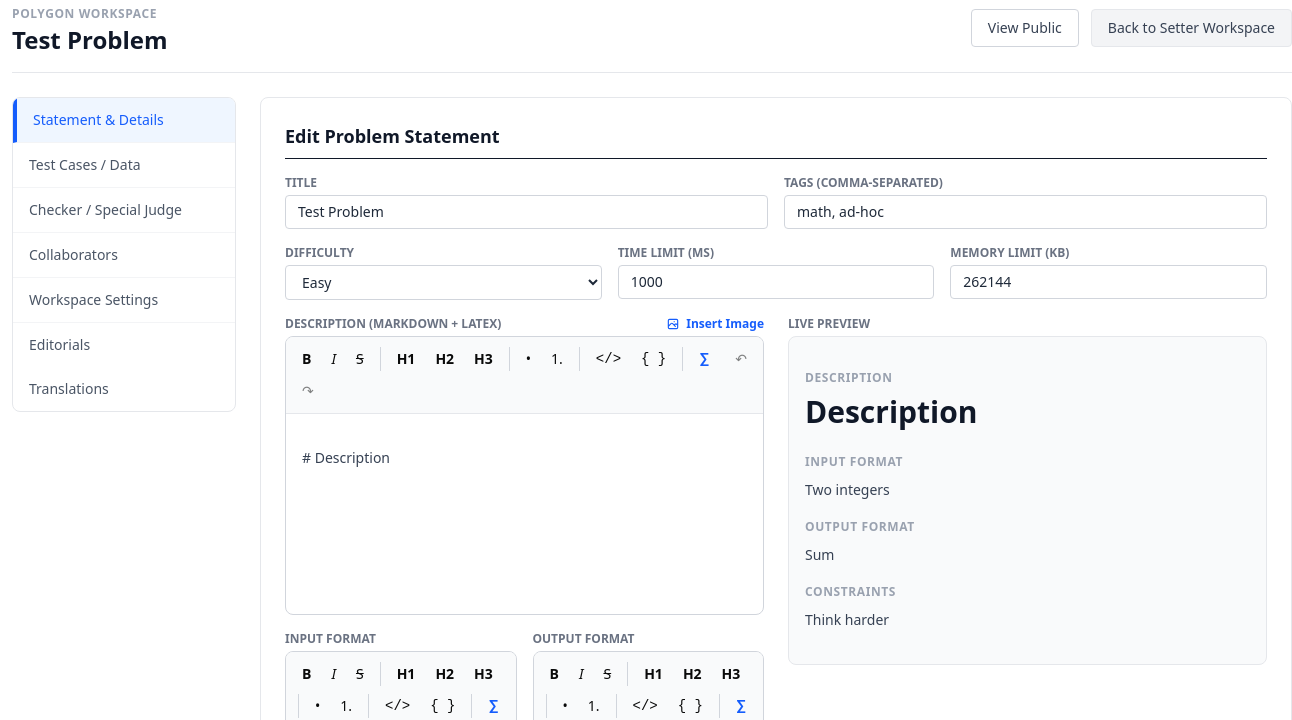
Test case: switches tabs when clicked
Expected: the heading "Test Problem" is shown, [12,24,168,56]
Click test cases tab
What coordinates should you click on to do the following:
click the button "Test Cases / Data"
I would click on:
 (124, 166)
Its box is [13,143,235,188].
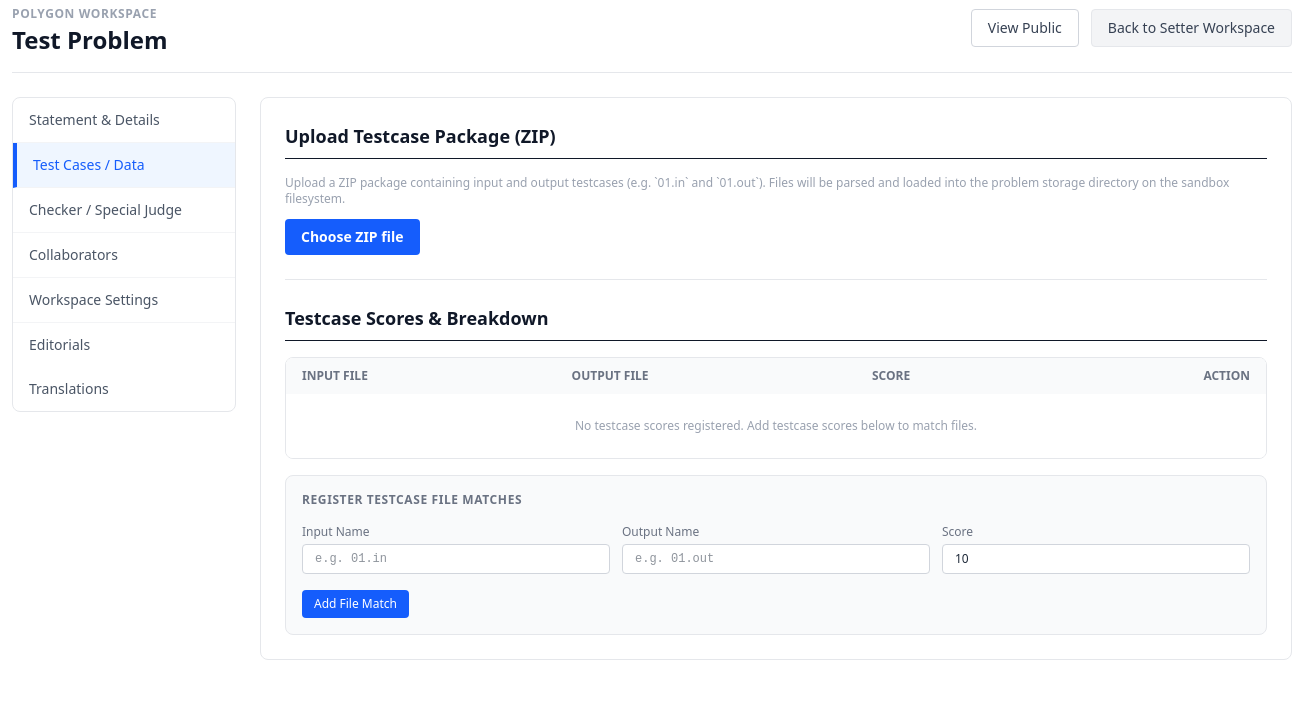
Expected: the heading "Upload Testcase Package (ZIP)" is shown, [285,122,1267,159]
Click checker tab
What coordinates should you click on to do the following:
click the button "Checker / Special Judge"
I would click on:
 (124, 210)
Its box is [13,188,235,233].
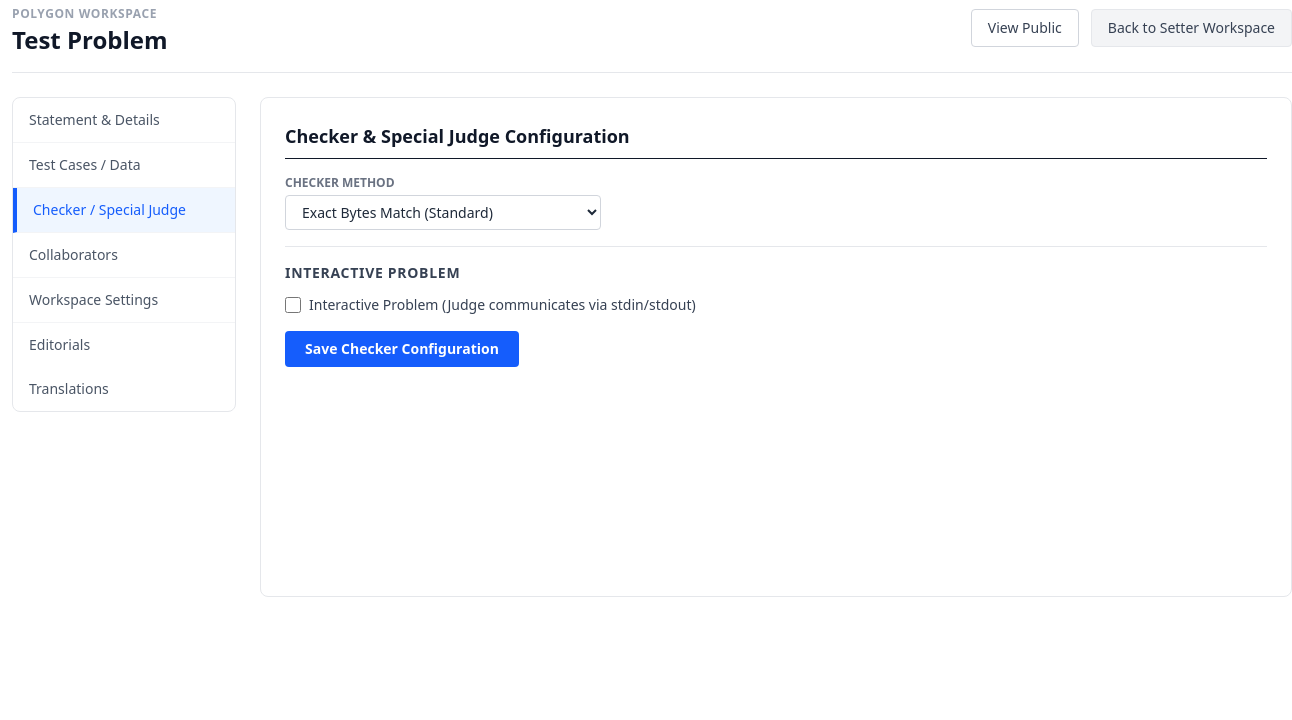
Expected: the heading "Checker & Special Judge Configuration" is shown, [285,122,1267,159]
Click collaborators tab
What coordinates should you click on to do the following:
click the button "Collaborators"
I would click on:
 (124, 256)
Its box is [13,233,235,278].
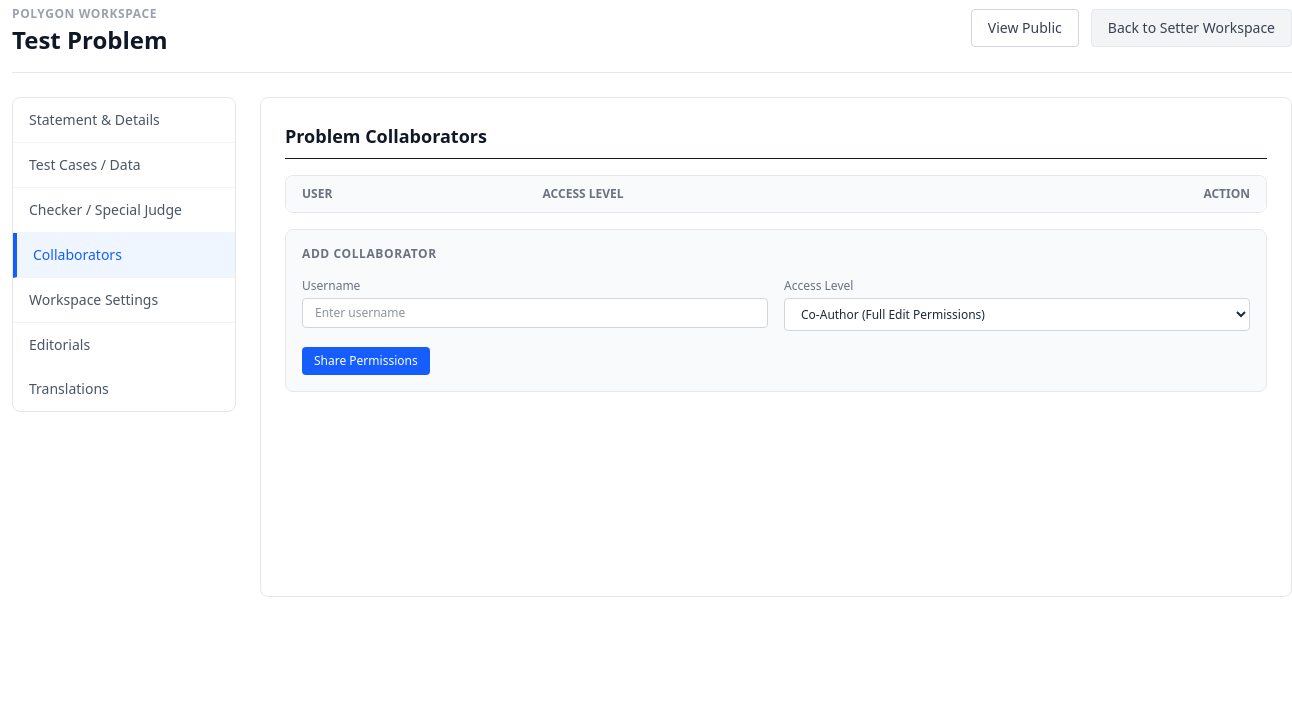
Expected: the heading "Problem Collaborators" is shown, [285,122,1267,159]
Click settings tab
What coordinates should you click on to do the following:
click the button "Workspace Settings"
I would click on:
 (124, 300)
Its box is [13,278,235,323].
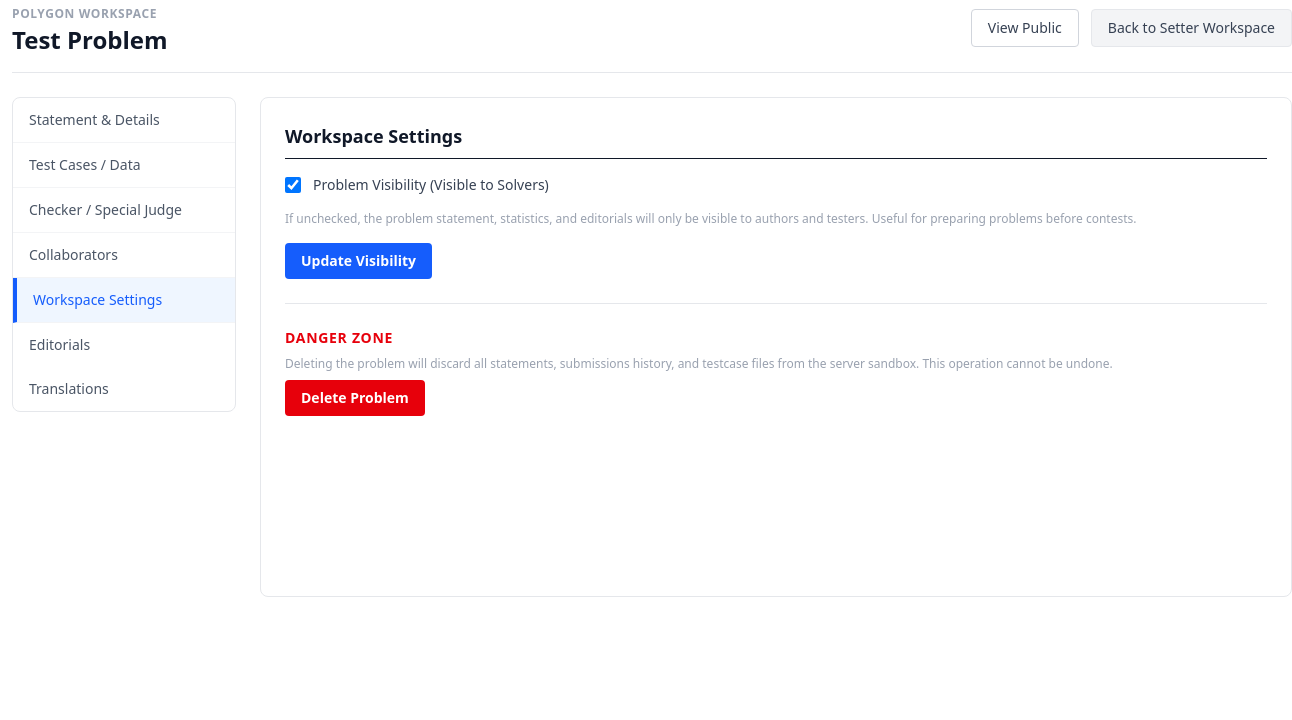
Expected: the heading "Workspace Settings" is shown, [285,122,1267,159]
